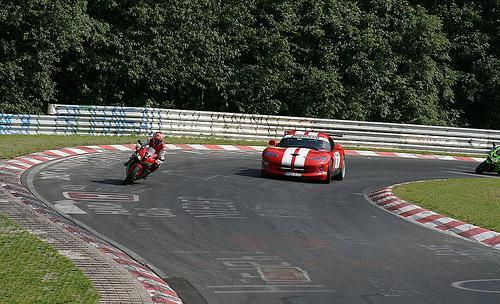Helmet: (153, 132, 163, 145)
Person: (143, 131, 167, 178)
